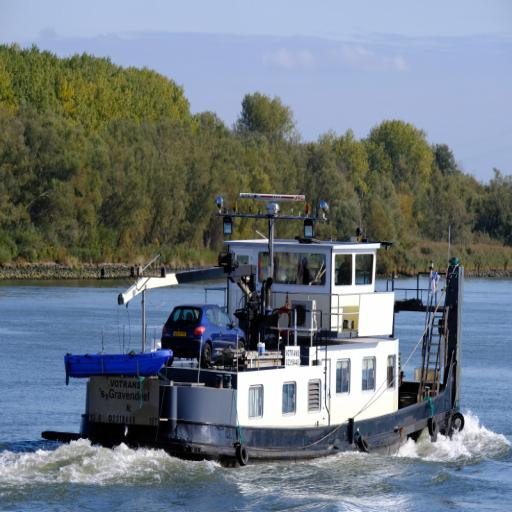tugboat: (38, 190, 468, 477)
